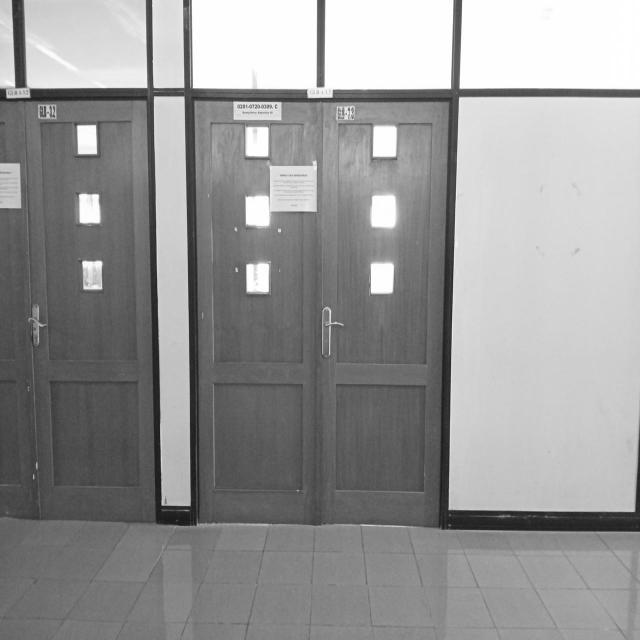door: (185, 82, 460, 534)
